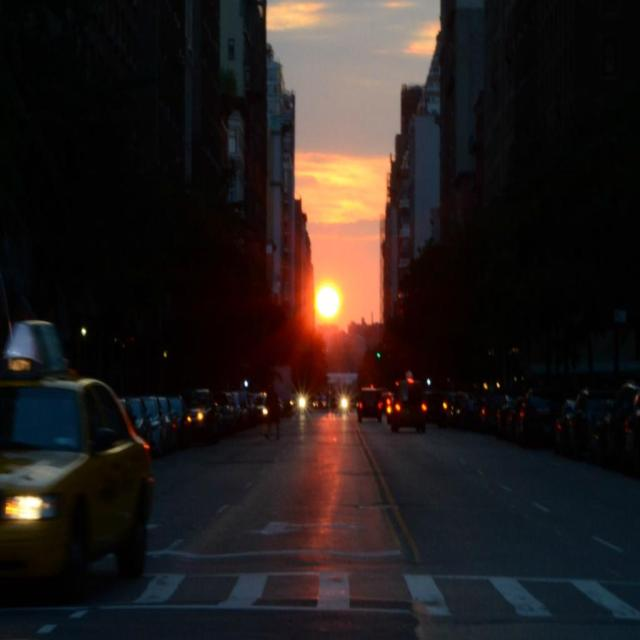car: (390, 378, 430, 432)
